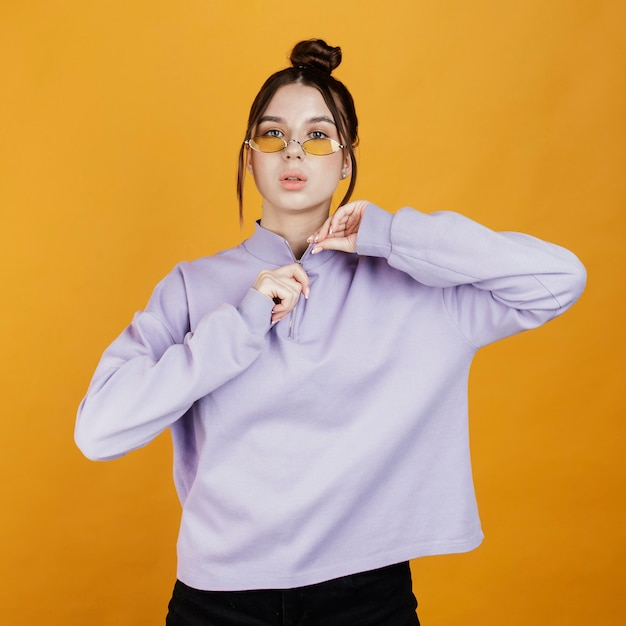teen: (226, 44, 365, 229)
